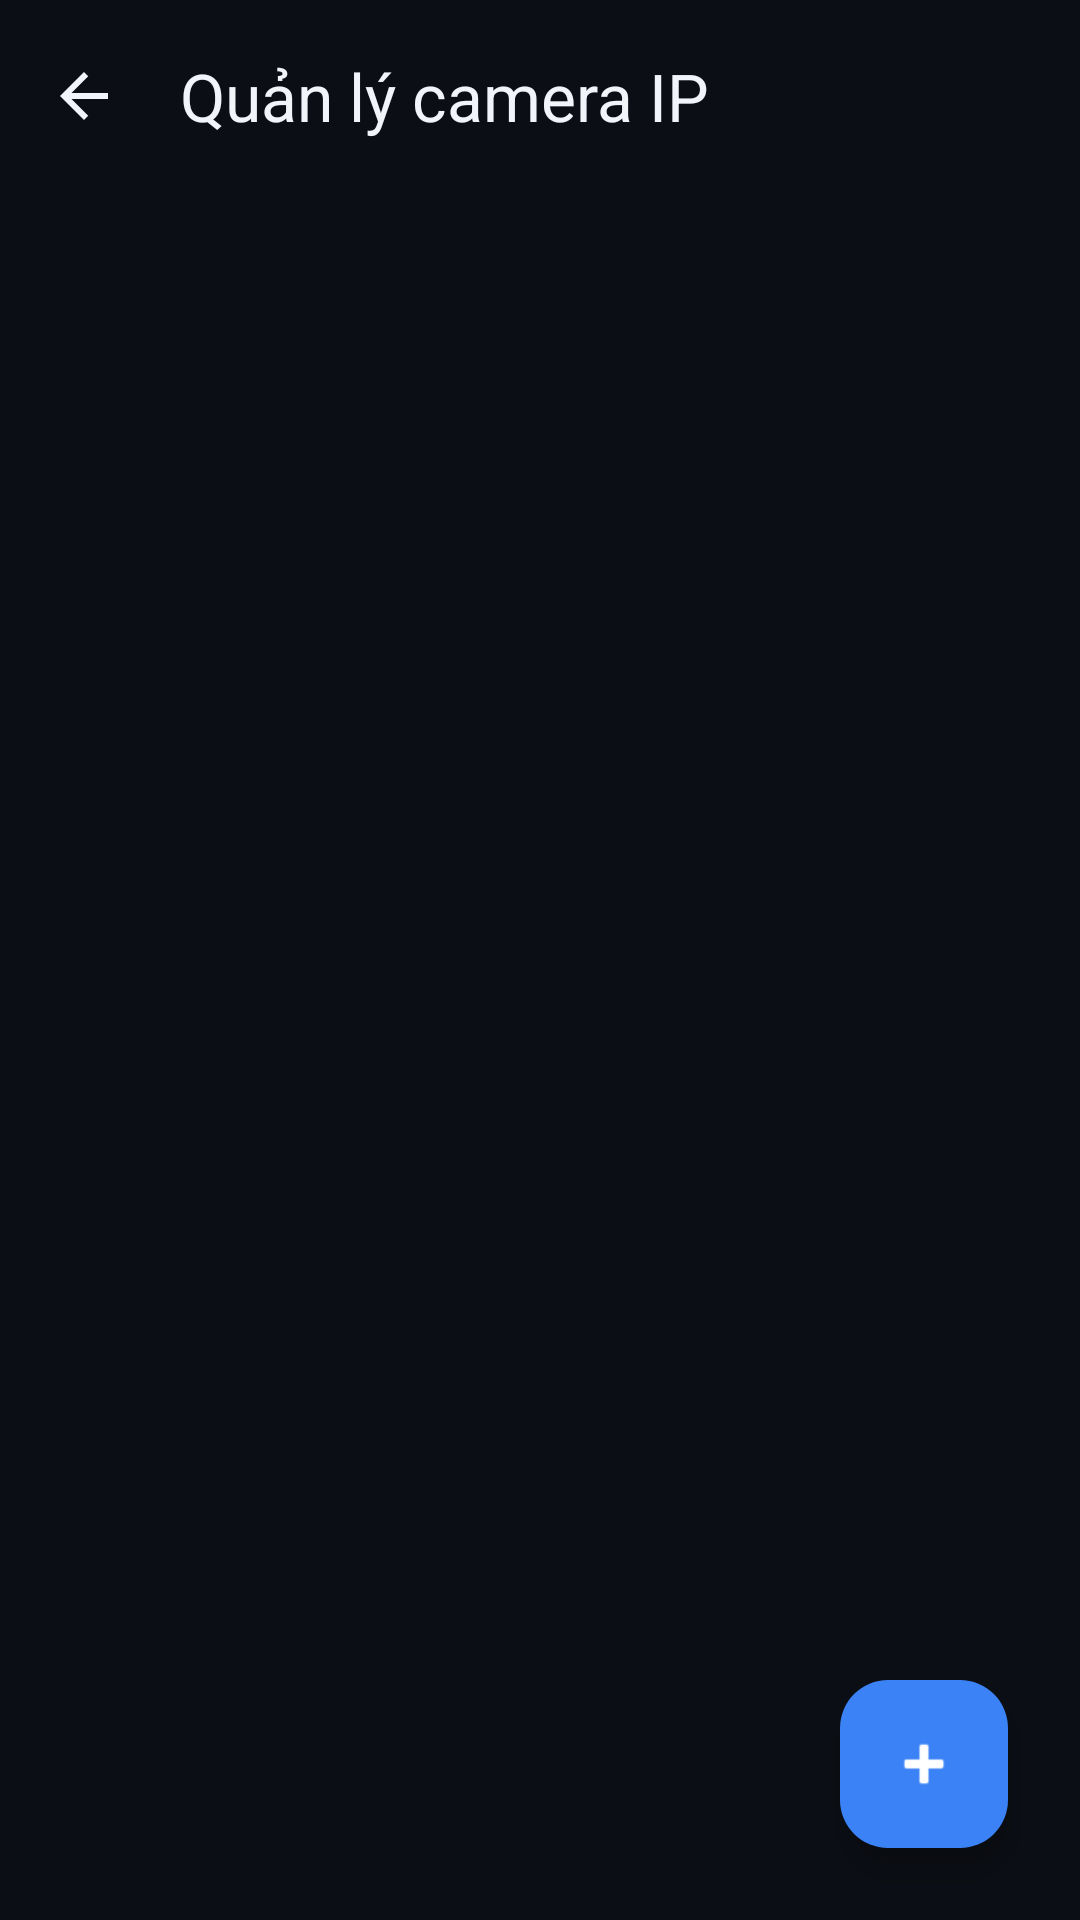

Icon bounding boxes for this 1080 × 1920 phone screenshot, format [x1, y1, x2, y2]:
Thêm camera: [840, 1680, 1008, 1848]
